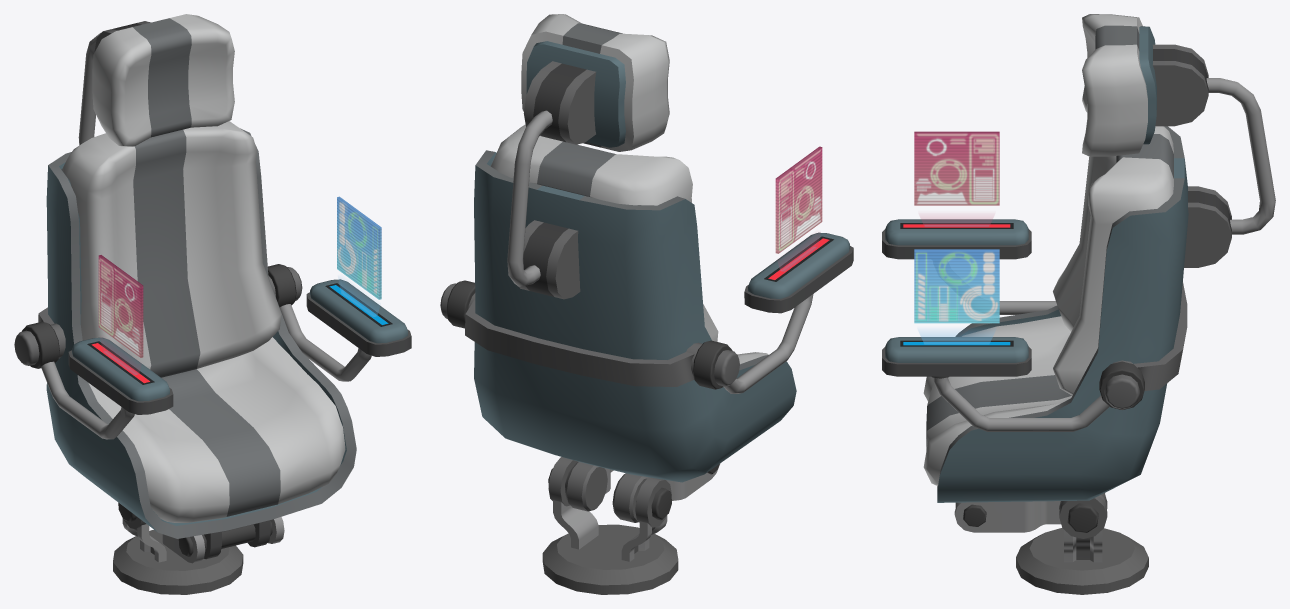
File: Armchair_013.glb
3 views of the same model, side by side, from view 1: azimuth 30°, elevation 25°; view 2: azimuth 150°, elevation 25°; view 3: azimuth 270°, elevation 25° (orthographic). The views are drawn at different scales.
Parts seen in each view (by area): view 1: Armchair_013_body_001, Armchair_013_headrest_002, Armchair_013, Armchair_013_armrest_003, Armchair_013_armrest_004, Armchair_013_screen_002, Armchair_013_screen_001, Armchair_013_armrest_002, Armchair_013_armrest_001, Armchair_013_headrest_001; view 2: Armchair_013_body_001, Armchair_013_headrest_002, Armchair_013, Armchair_013_armrest_004, Armchair_013_screen_001, Armchair_013_headrest_001, Armchair_013_armrest_002, Armchair_013_armrest_001; view 3: Armchair_013_body_001, Armchair_013_headrest_002, Armchair_013, Armchair_013_screen_002, Armchair_013_screen_001, Armchair_013_armrest_003, Armchair_013_armrest_004, Armchair_013_armrest_001, Armchair_013_headrest_001, Armchair_013_armrest_002.
Part boxes in pixels (x1=…): Armchair_013_body_001: x1=14, y1=121, x2=356, y2=559; Armchair_013_headrest_002: x1=92, y1=14, x2=234, y2=146; Armchair_013: x1=113, y1=502, x2=284, y2=594; Armchair_013_armrest_003: x1=306, y1=279, x2=411, y2=356; Armchair_013_armrest_004: x1=68, y1=337, x2=173, y2=414; Armchair_013_screen_002: x1=337, y1=196, x2=381, y2=316; Armchair_013_screen_001: x1=98, y1=255, x2=143, y2=374; Armchair_013_armrest_002: x1=21, y1=321, x2=134, y2=439; Armchair_013_armrest_001: x1=268, y1=264, x2=371, y2=381; Armchair_013_headrest_001: x1=78, y1=33, x2=100, y2=145; Armchair_013_body_001: x1=440, y1=124, x2=796, y2=482; Armchair_013_headrest_002: x1=521, y1=14, x2=669, y2=151; Armchair_013: x1=542, y1=457, x2=720, y2=594; Armchair_013_armrest_004: x1=744, y1=232, x2=853, y2=313; Armchair_013_screen_001: x1=775, y1=146, x2=822, y2=271; Armchair_013_headrest_001: x1=507, y1=110, x2=552, y2=286; Armchair_013_armrest_002: x1=692, y1=294, x2=813, y2=393; Armchair_013_armrest_001: x1=446, y1=280, x2=475, y2=328; Armchair_013_body_001: x1=923, y1=126, x2=1231, y2=507; Armchair_013_headrest_002: x1=1082, y1=14, x2=1208, y2=156; Armchair_013: x1=954, y1=493, x2=1148, y2=594; Armchair_013_screen_002: x1=914, y1=249, x2=999, y2=344; Armchair_013_screen_001: x1=914, y1=131, x2=999, y2=226; Armchair_013_armrest_003: x1=882, y1=337, x2=1031, y2=378; Armchair_013_armrest_004: x1=882, y1=219, x2=1031, y2=259; Armchair_013_armrest_001: x1=933, y1=361, x2=1144, y2=431; Armchair_013_headrest_001: x1=1206, y1=78, x2=1275, y2=234; Armchair_013_armrest_002: x1=999, y1=301, x2=1056, y2=314.
Bounding box in the file's own units: 0.8655 × 1.54 × 1.04.
Materials: 4 (4 with a texture image).
